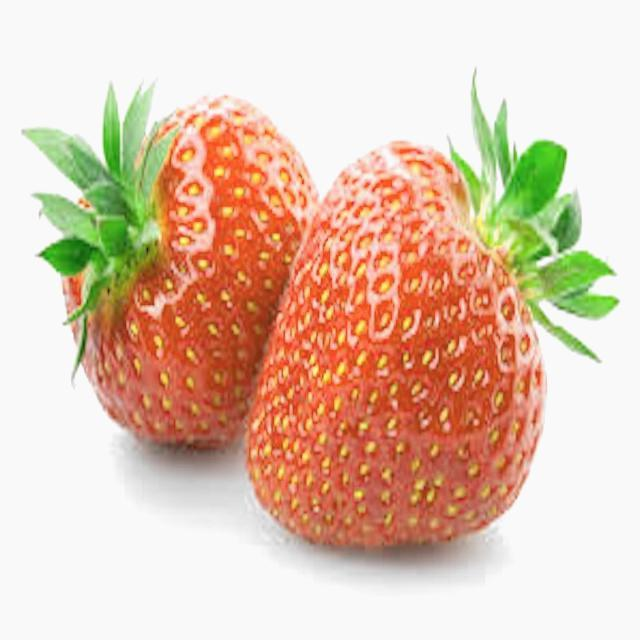strawberry: (249, 81, 616, 546), (25, 88, 316, 448)
